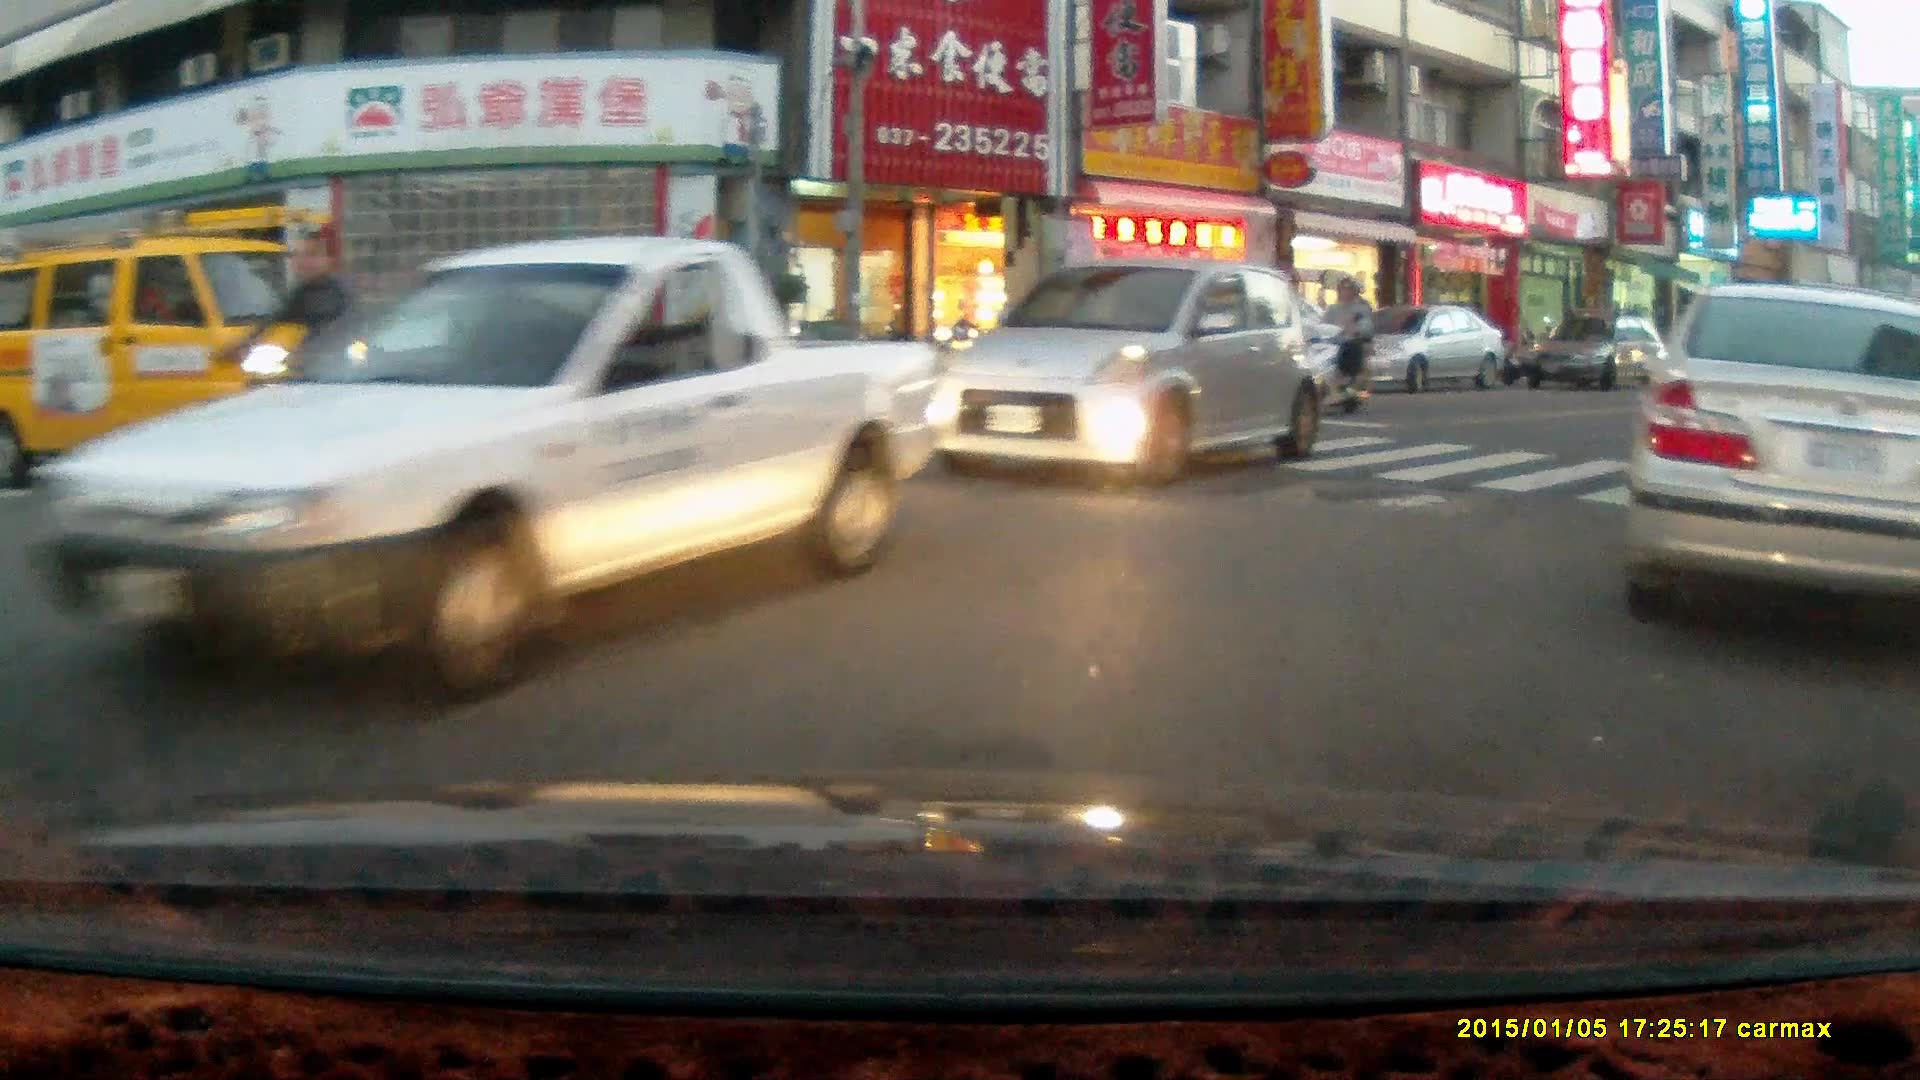rider: (191, 226, 431, 502), (1299, 267, 1373, 418)
vehicle: (32, 232, 956, 708), (1, 204, 391, 492), (1634, 280, 1913, 655), (918, 256, 1330, 488), (1351, 304, 1505, 390), (1519, 314, 1672, 389)
